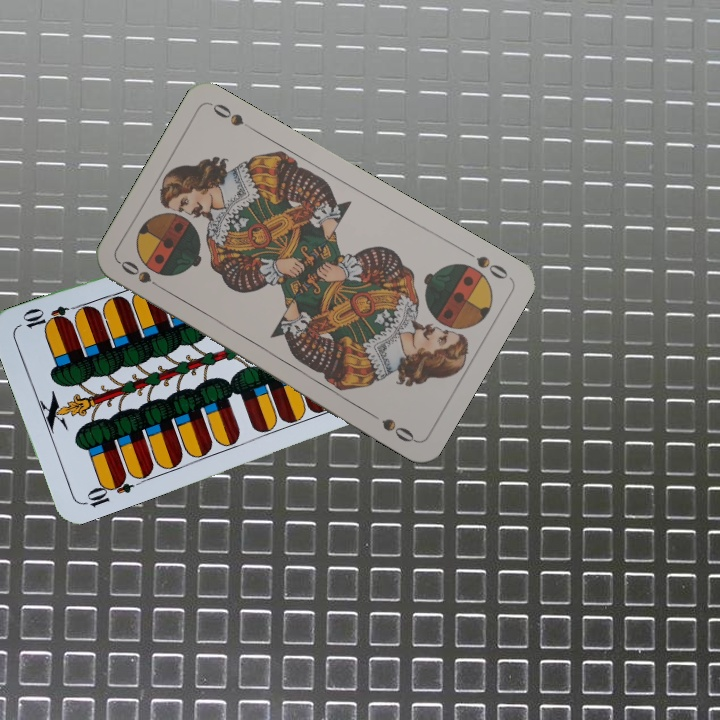E10: (79, 471, 136, 510)
SO: (116, 256, 170, 295), (459, 245, 511, 282)
